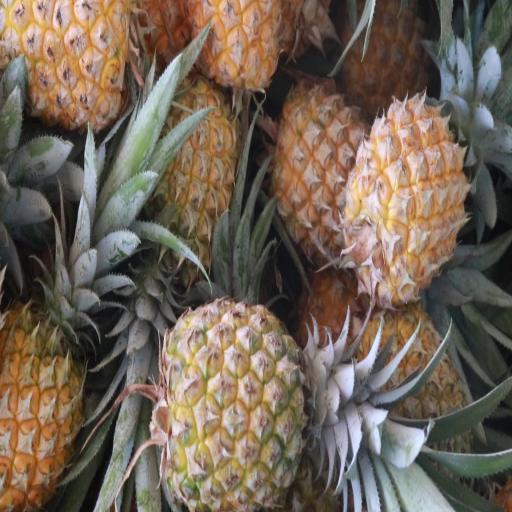------------------------------: (162, 302, 313, 510), (356, 308, 470, 471), (274, 87, 369, 267)
Pineapple - v8 v1: (347, 99, 467, 300), (0, 304, 87, 512), (0, 0, 129, 137), (148, 81, 232, 283), (343, 0, 432, 128), (197, 2, 286, 106)
